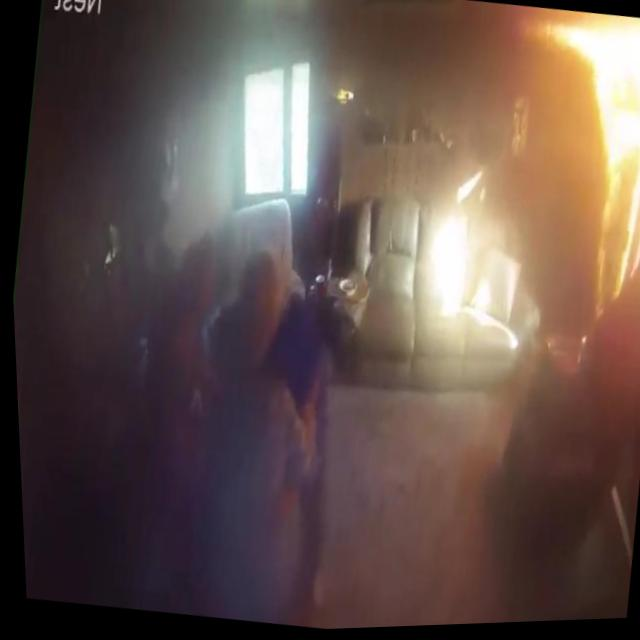fire: (507, 13, 640, 321)
